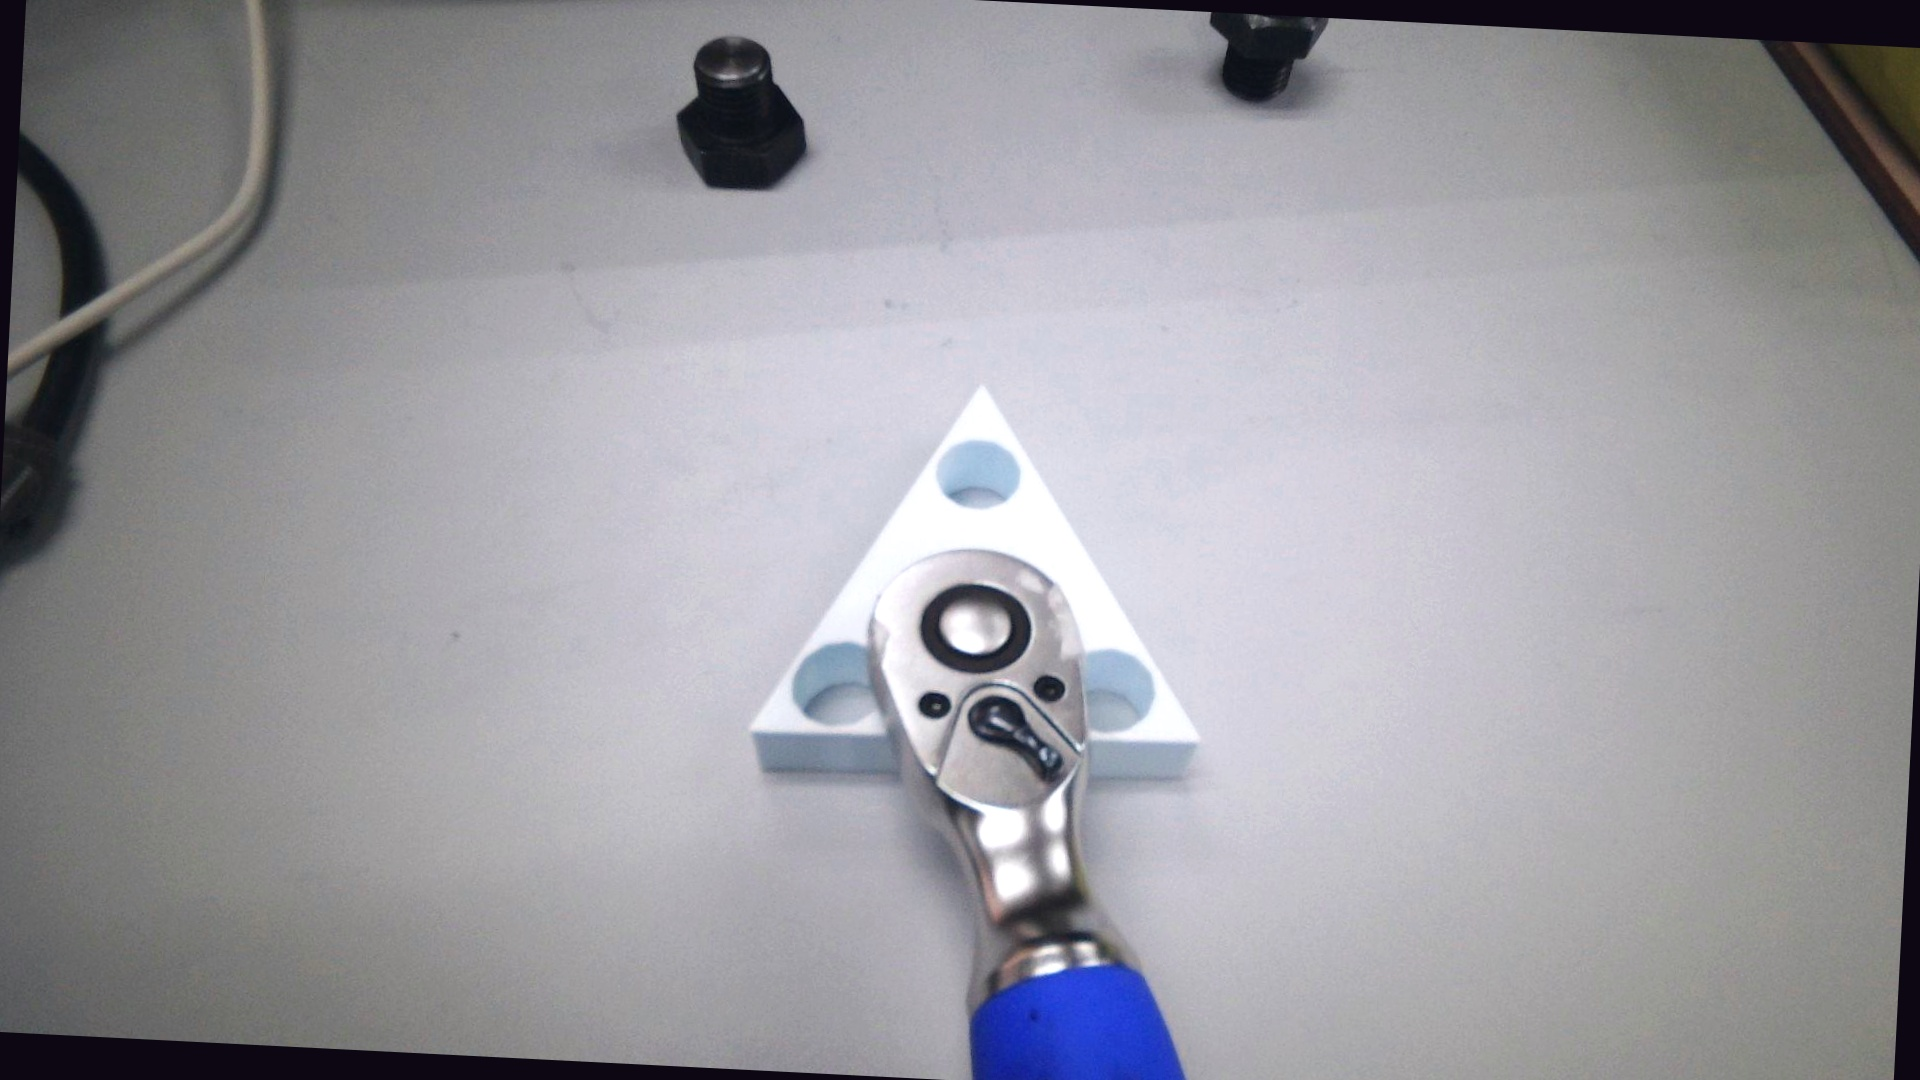hole: (790, 637, 887, 729), (1075, 647, 1156, 735), (934, 436, 1022, 510)
obj: (744, 373, 1215, 794)
wrench: (919, 579, 1034, 676)
